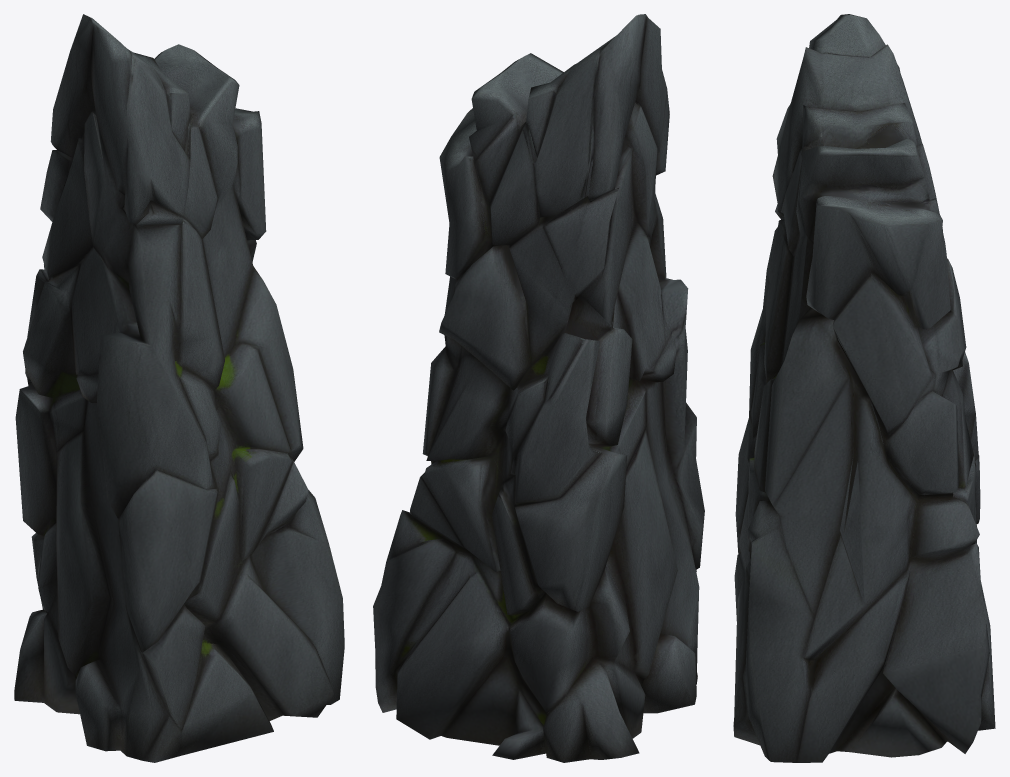
Rendered from cliff.glb.
The picture shows the model from 3 angles, left to right: view 1: azimuth 30°, elevation 25°; view 2: azimuth 150°, elevation 25°; view 3: azimuth 270°, elevation 25°; orthographic projection. The views are drawn at different scales.
Bounding box in the file's own units: 0.3521 × 0.9531 × 0.3462.
Materials: 1 (1 with a texture image).
